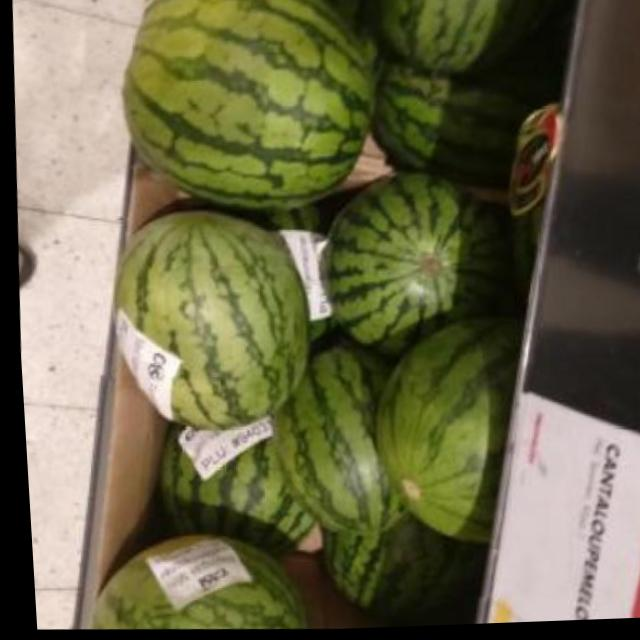Watermelon: (105, 0, 387, 222), (93, 203, 319, 436), (307, 169, 523, 375)
